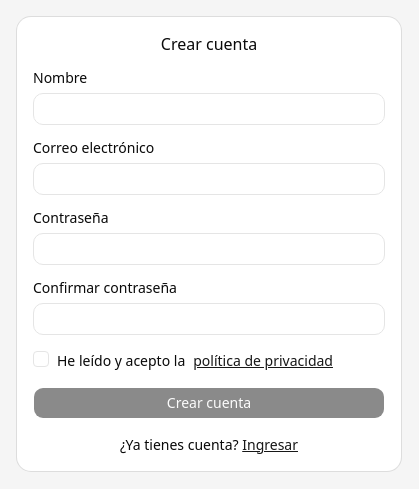
Test: RegistroPage › deshabilita crear cuenta hasta aceptar la política
Expected: the button "Crear cuenta" is disabled, [33,387,385,419]
Click the checkbox named "acepto la".
click(41, 359)  # box [33,351,49,367]
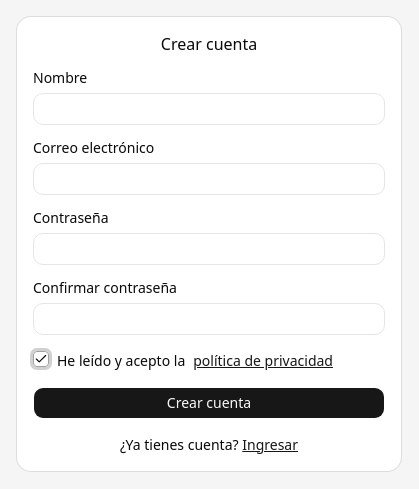
Now the button "Crear cuenta" is enabled, box [33,387,385,419]
